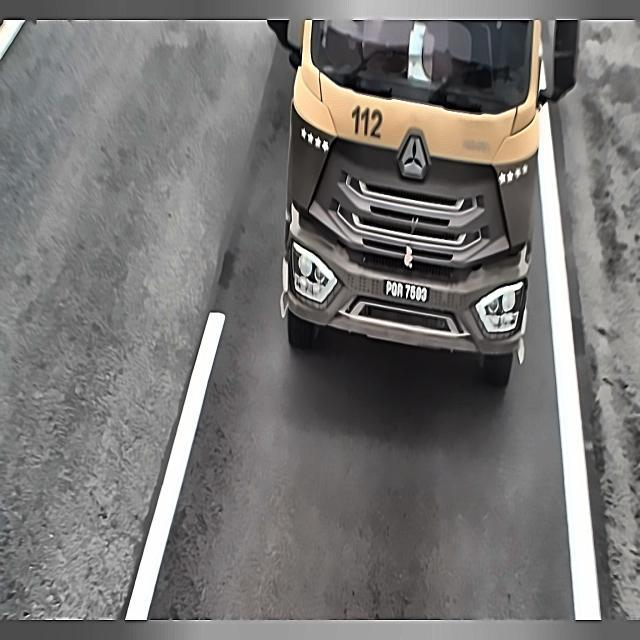car: (381, 278, 431, 305)
